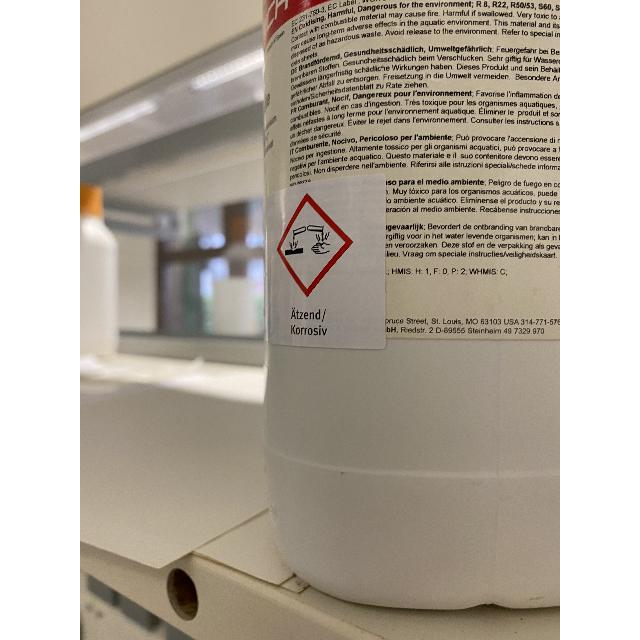corrosive: (284, 224, 330, 256)
